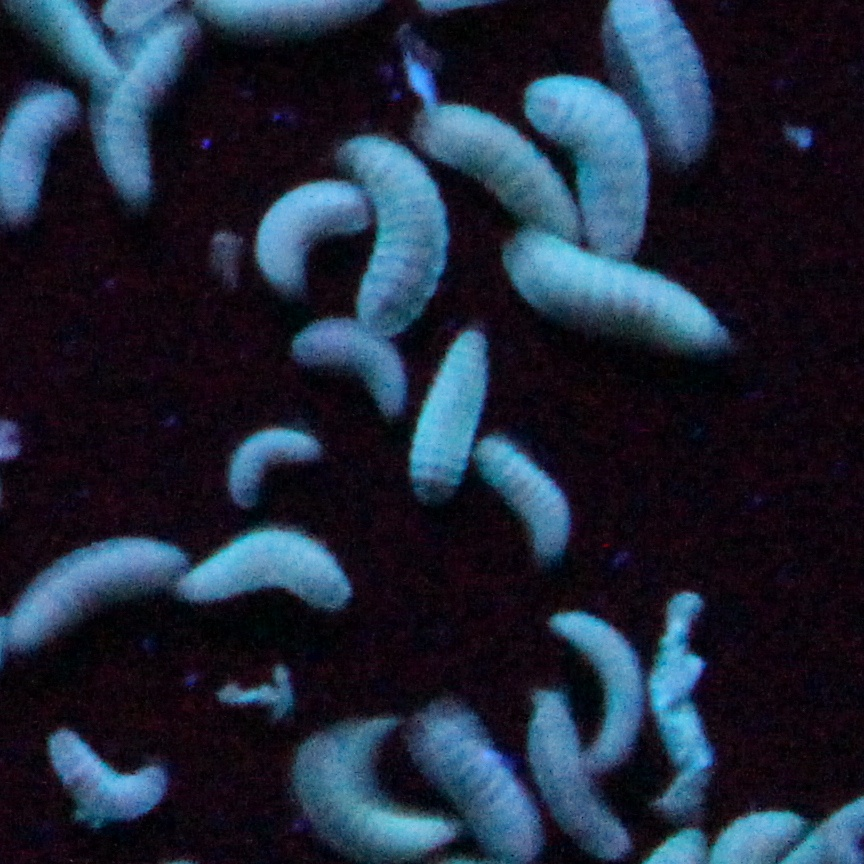larve: (507, 236, 727, 362), (547, 69, 654, 256), (347, 142, 447, 336), (414, 709, 540, 862), (294, 729, 427, 856), (99, 24, 186, 214), (200, 522, 340, 609), (54, 722, 174, 822), (567, 616, 640, 776), (480, 449, 574, 569), (665, 593, 719, 800), (0, 82, 74, 222), (227, 416, 320, 516), (254, 182, 334, 296)
